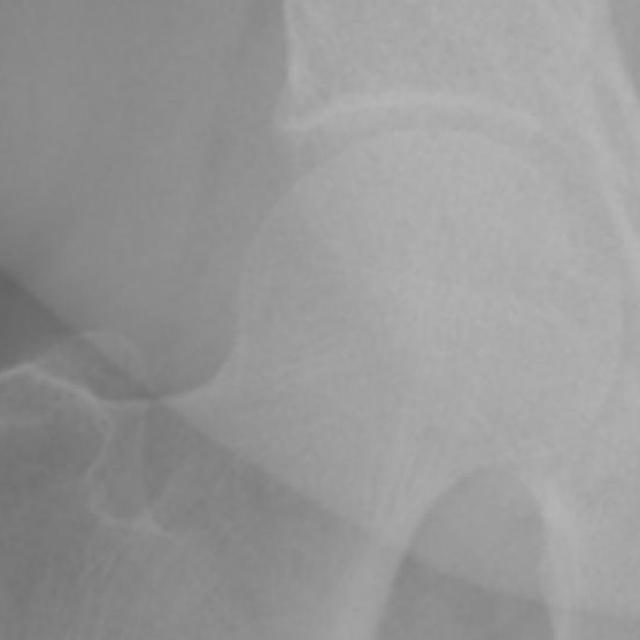Fitted_femural_head: (366, 129, 432, 366)
